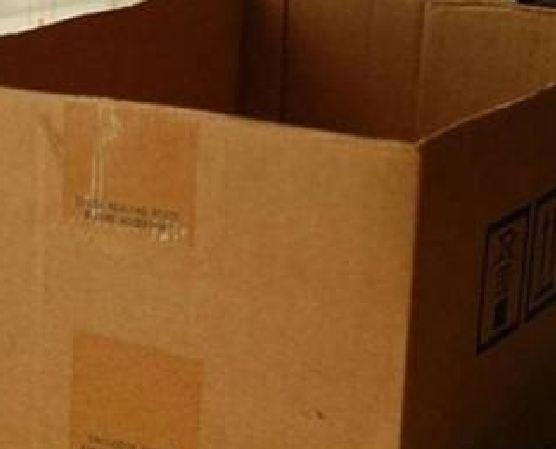cardboard: (0, 0, 556, 445)
